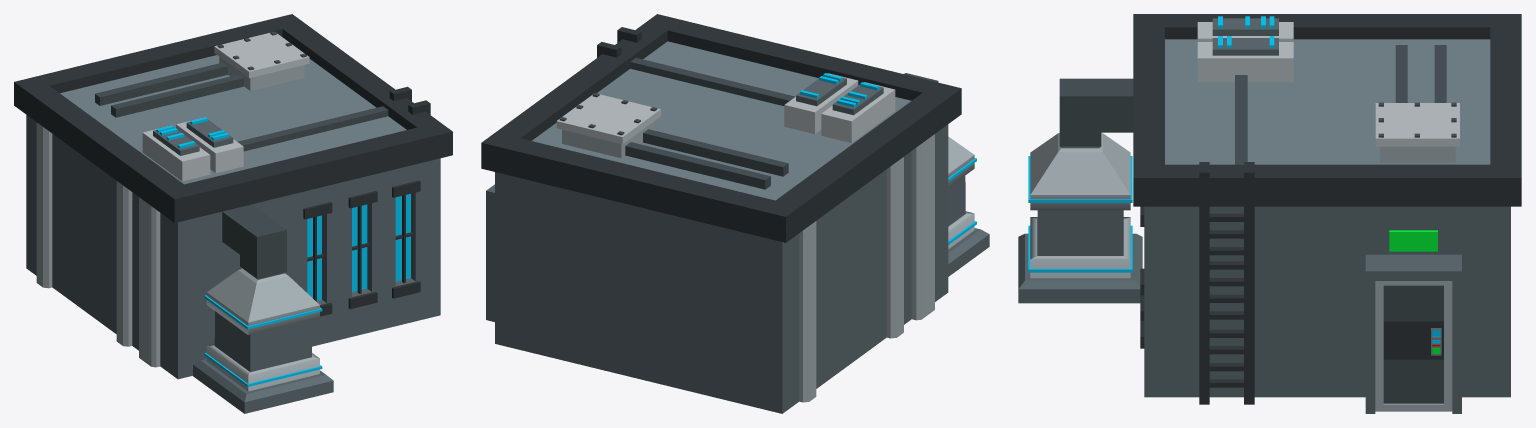
The model's file is Building 01.FBX.
The picture shows the model from 3 angles, left to right: view 1: azimuth 30°, elevation 25°; view 2: azimuth 150°, elevation 25°; view 3: azimuth 270°, elevation 25°; orthographic projection. The views are drawn at different scales.
Visible parts, largest first — view 1: Building 01; view 2: Building 01; view 3: Building 01, Building 01 Door.
Boxes of the visible parts, <box> form: Building 01: <box>14,14,452,413</box>; Building 01: <box>481,14,989,413</box>; Building 01: <box>1018,14,1521,413</box>; Building 01 Door: <box>1375,281,1452,411</box>.
Bounding box in the file's own units: 622 × 404 × 751.
